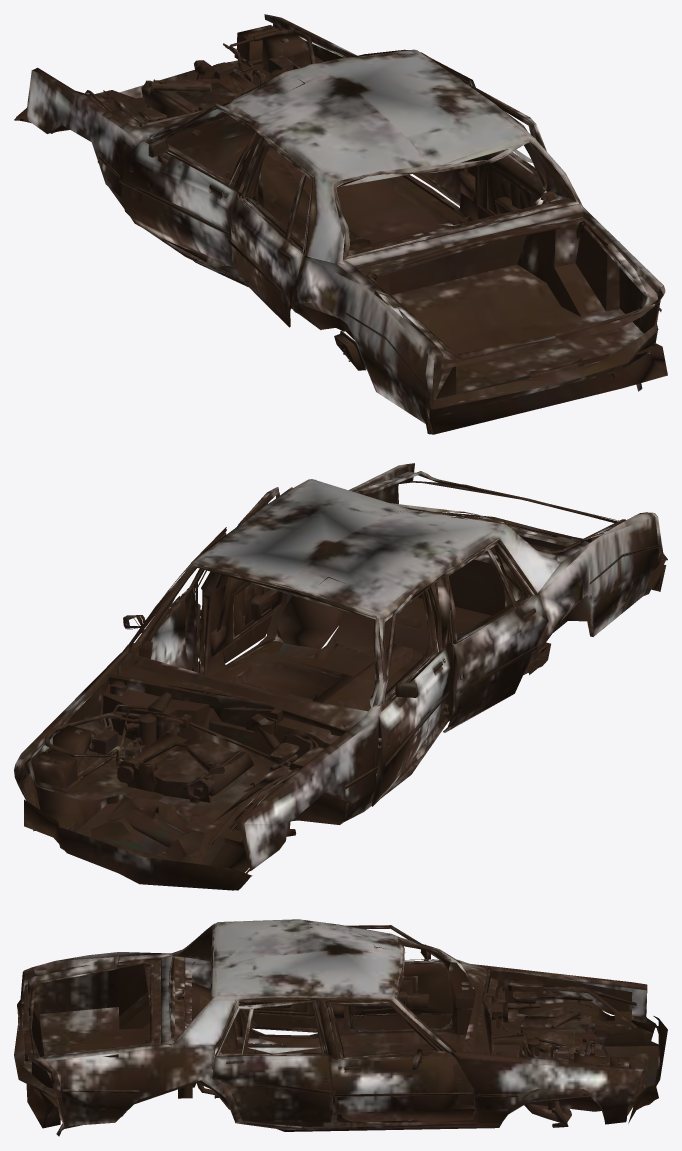
Rendered from car3_sedan_crushed_white.glb.
The picture shows the model from 3 angles, top to bottom: view 1: azimuth 30°, elevation 25°; view 2: azimuth 150°, elevation 25°; view 3: azimuth 270°, elevation 25°; orthographic projection. The views are drawn at different scales.
Parts seen in each view (by area): view 1: Object026_Material #8770_0, Object026_Material #9428_0, Object026_Material #9077_0, Object026_Material #9537_0, Object026_Material #9575_0; view 2: Object026_Material #8770_0, Object026_Material #9537_0, Object026_Material #9575_0, Object026_Material #9428_0, Object026_Material #9077_0; view 3: Object026_Material #8770_0, Object026_Material #9428_0, Object026_Material #9537_0, Object026_Material #9077_0, Object026_Material #9575_0.
Part boxes in pixels (left/top/right/bottom): Object026_Material #8770_0: left=20, top=14, right=665, bottom=424; Object026_Material #9428_0: left=159, top=65, right=657, bottom=398; Object026_Material #9077_0: left=97, top=49, right=667, bottom=434; Object026_Material #9537_0: left=75, top=25, right=601, bottom=406; Object026_Material #9575_0: left=14, top=70, right=644, bottom=378; Object026_Material #8770_0: left=14, top=463, right=667, bottom=890; Object026_Material #9537_0: left=27, top=515, right=579, bottom=846; Object026_Material #9575_0: left=24, top=595, right=591, bottom=890; Object026_Material #9428_0: left=127, top=476, right=659, bottom=769; Object026_Material #9077_0: left=33, top=471, right=666, bottom=836; Object026_Material #8770_0: left=14, top=919, right=658, bottom=1130; Object026_Material #9428_0: left=33, top=926, right=474, bottom=1090; Object026_Material #9537_0: left=17, top=960, right=636, bottom=1073; Object026_Material #9077_0: left=25, top=923, right=571, bottom=1136; Object026_Material #9575_0: left=39, top=982, right=667, bottom=1131.
Size of the model in its own units: 1.95 by 1.2 by 4.8.
5 materials, 5 textured.
